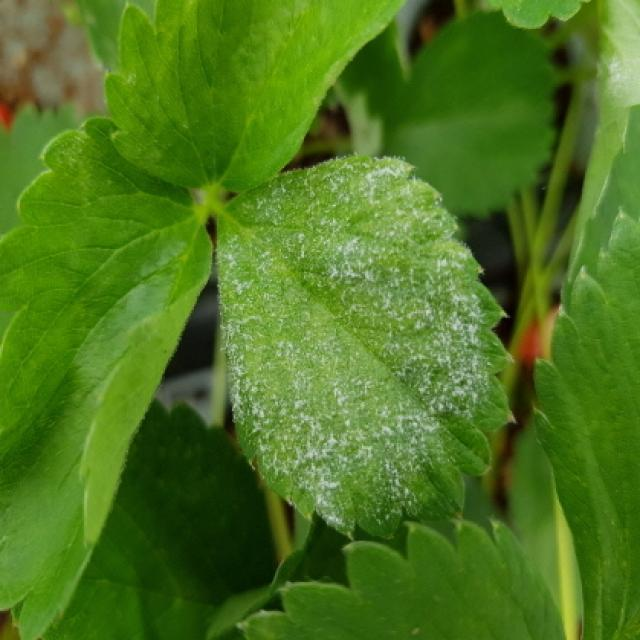powdery_mildew_leaf: (216, 154, 516, 541), (559, 0, 638, 317)
